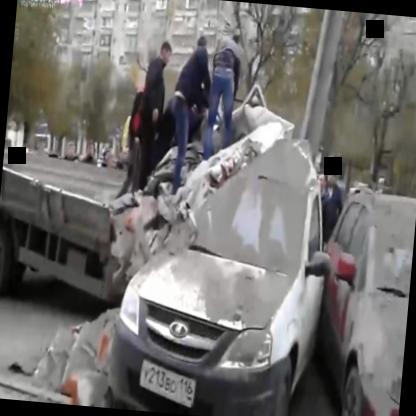accident: (46, 113, 316, 402)
